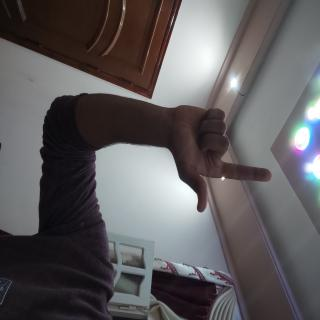LAAM: (75, 59, 161, 211)
